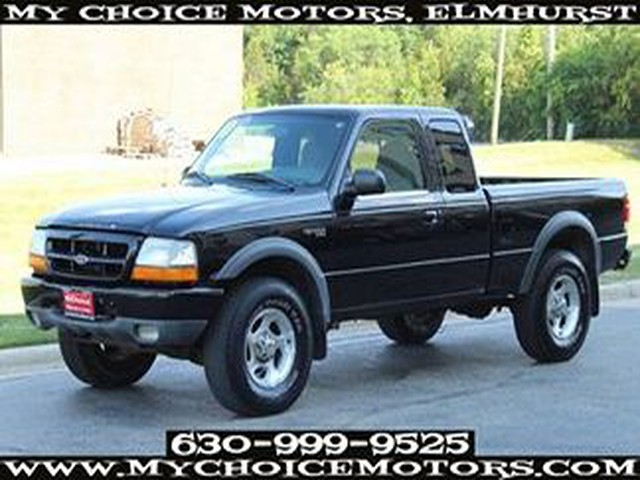Vehicle: (20, 97, 626, 418)
